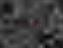eight: (30, 19, 35, 28)
nine: (18, 19, 23, 27)
two: (24, 19, 29, 27)
zero: (36, 20, 41, 28)
